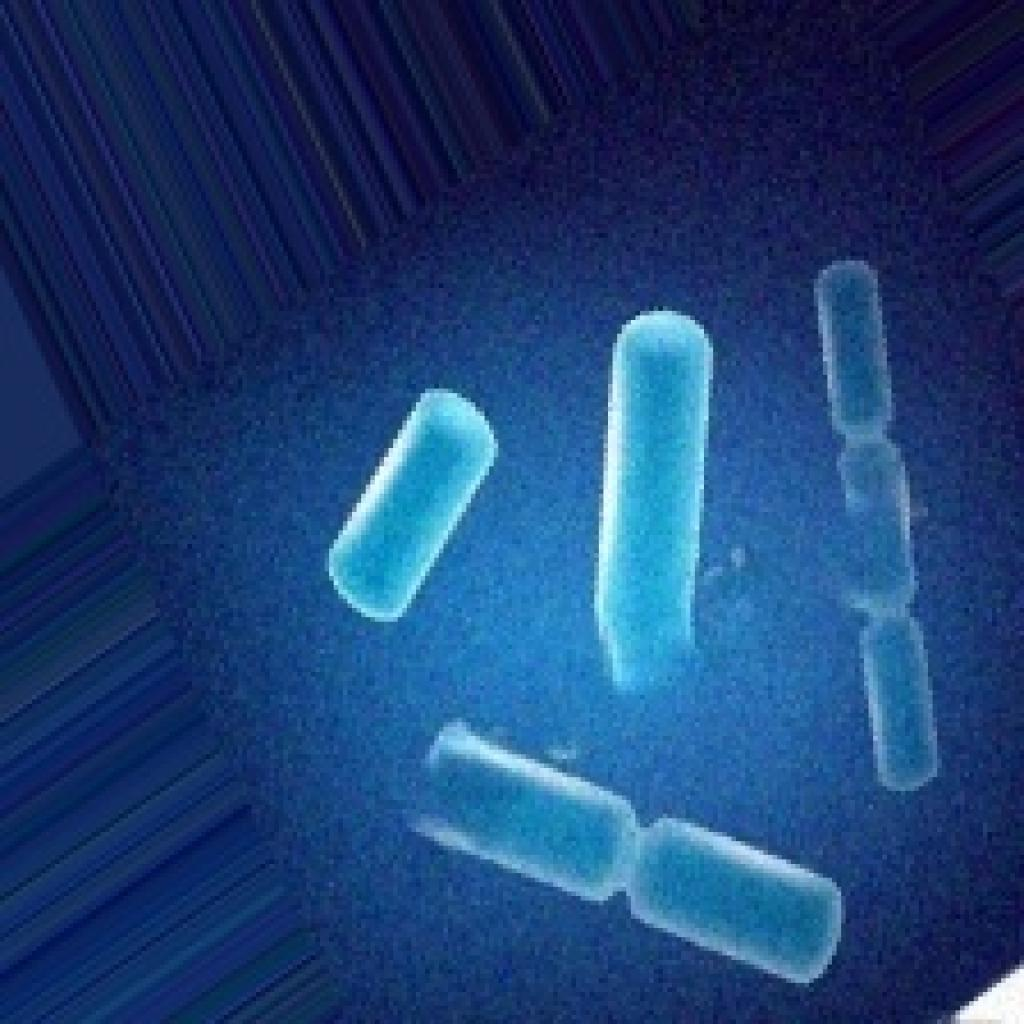Rodbacteria: (246, 226, 1024, 982)
